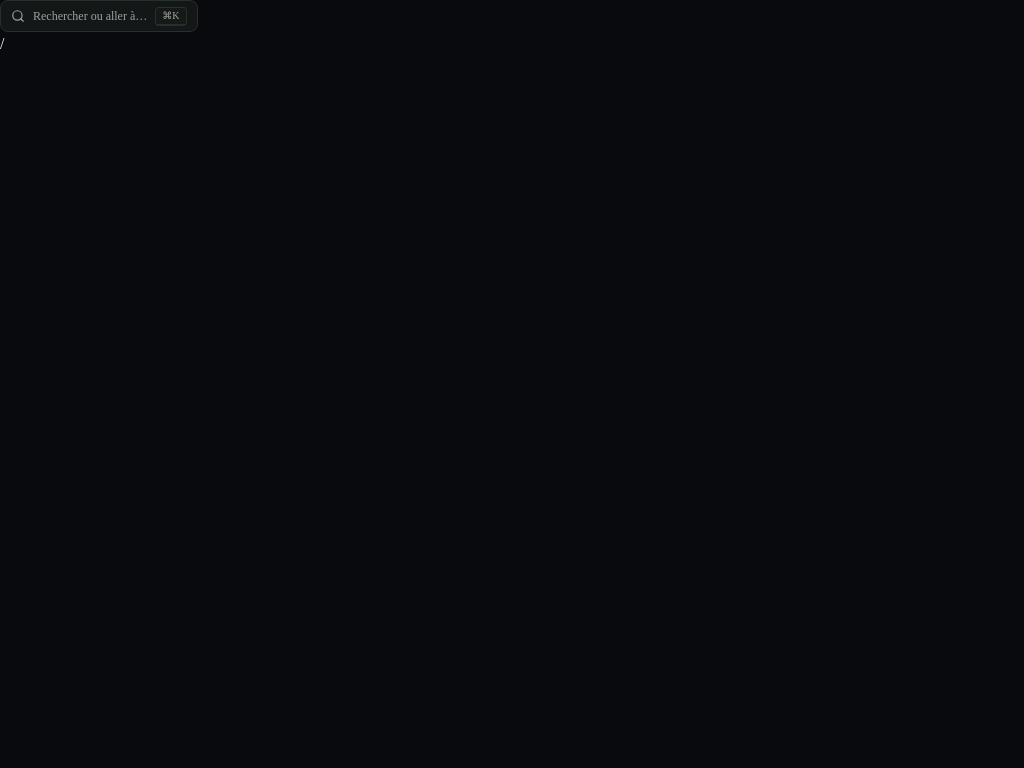
CommandPalette › opens from the top bar
Click the button "Rechercher ou aller à… ⌘K". click: (99,16)
box: [0,0,198,32]
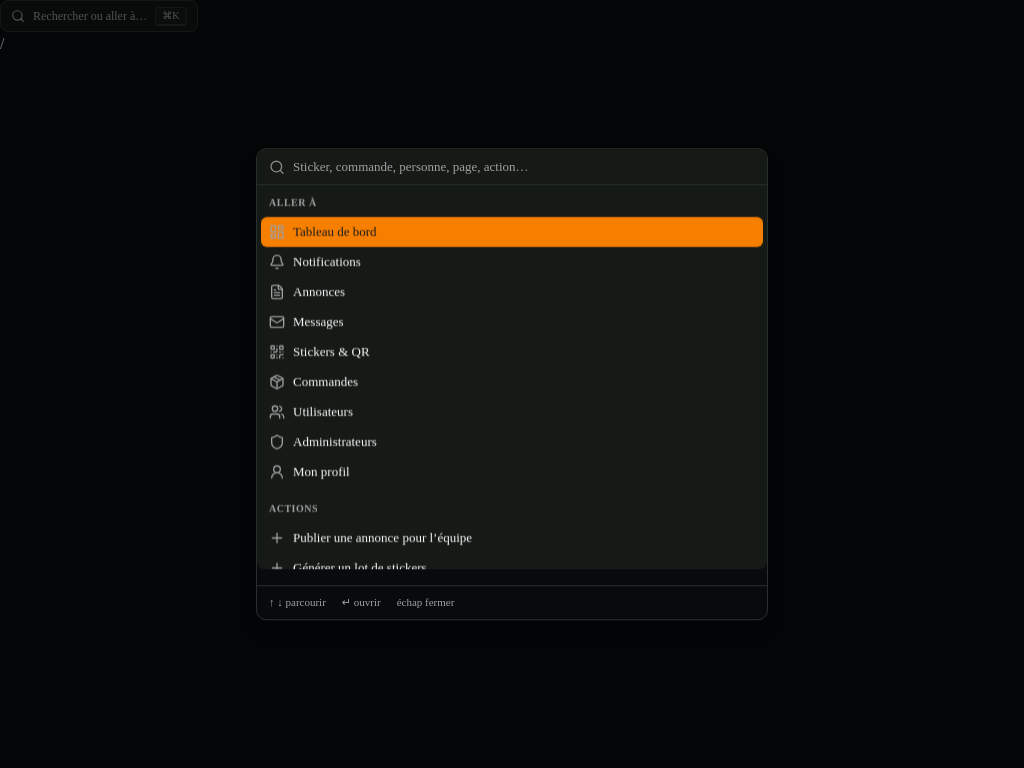
Now the dialog is shown, box [256,148,768,620]
